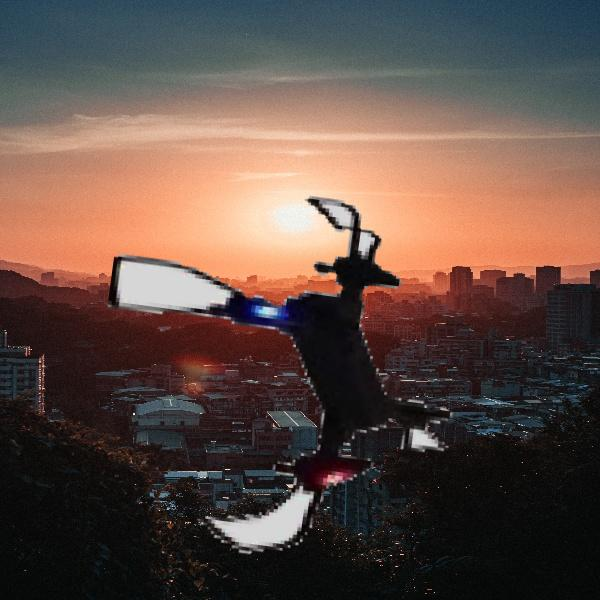drone: (101, 187, 478, 564)
